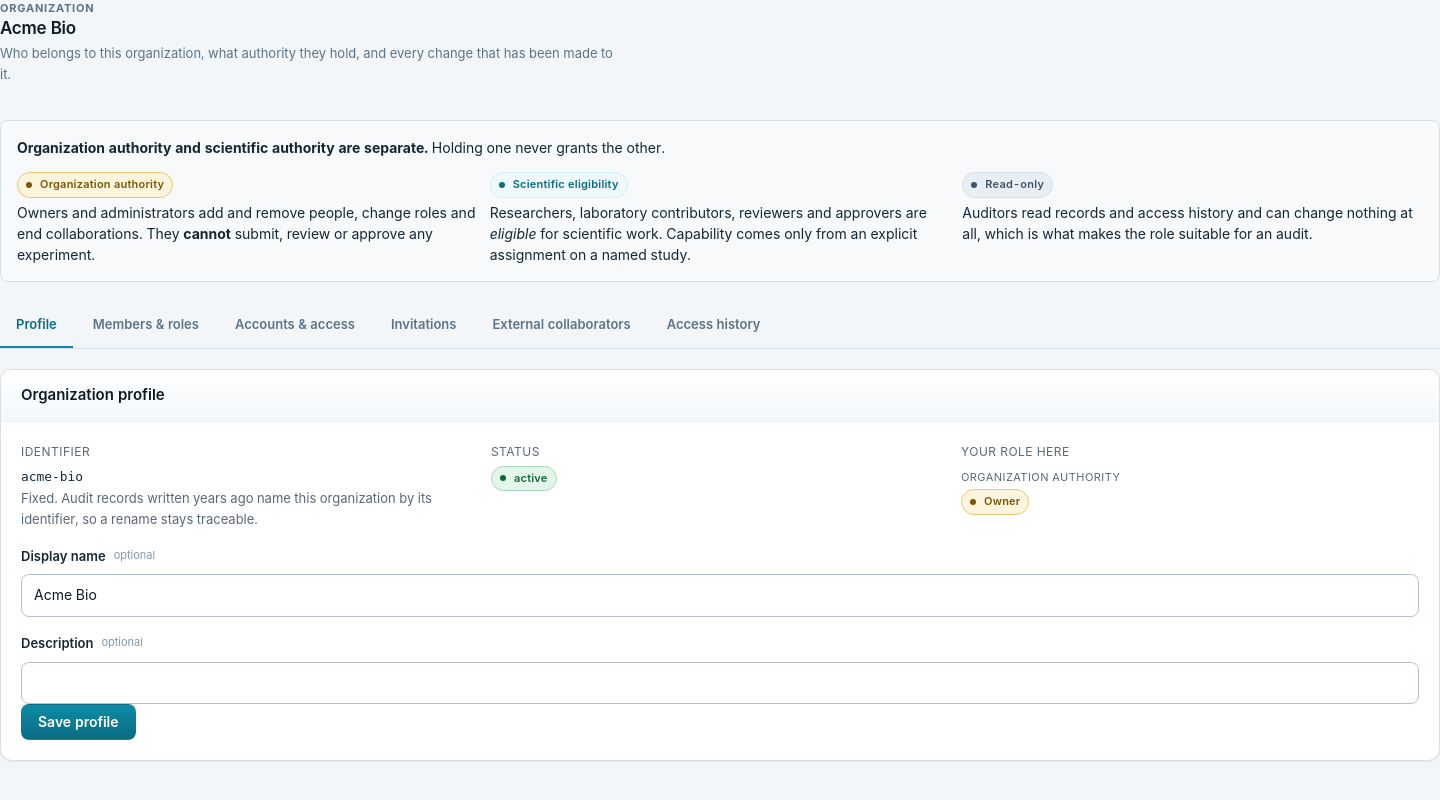
Scenario: organization authority versus scientific assignment › never presents administrator and approver in the same vocabulary
Click the tab "Members & roles" at (146, 325), box [77,302,215,348]
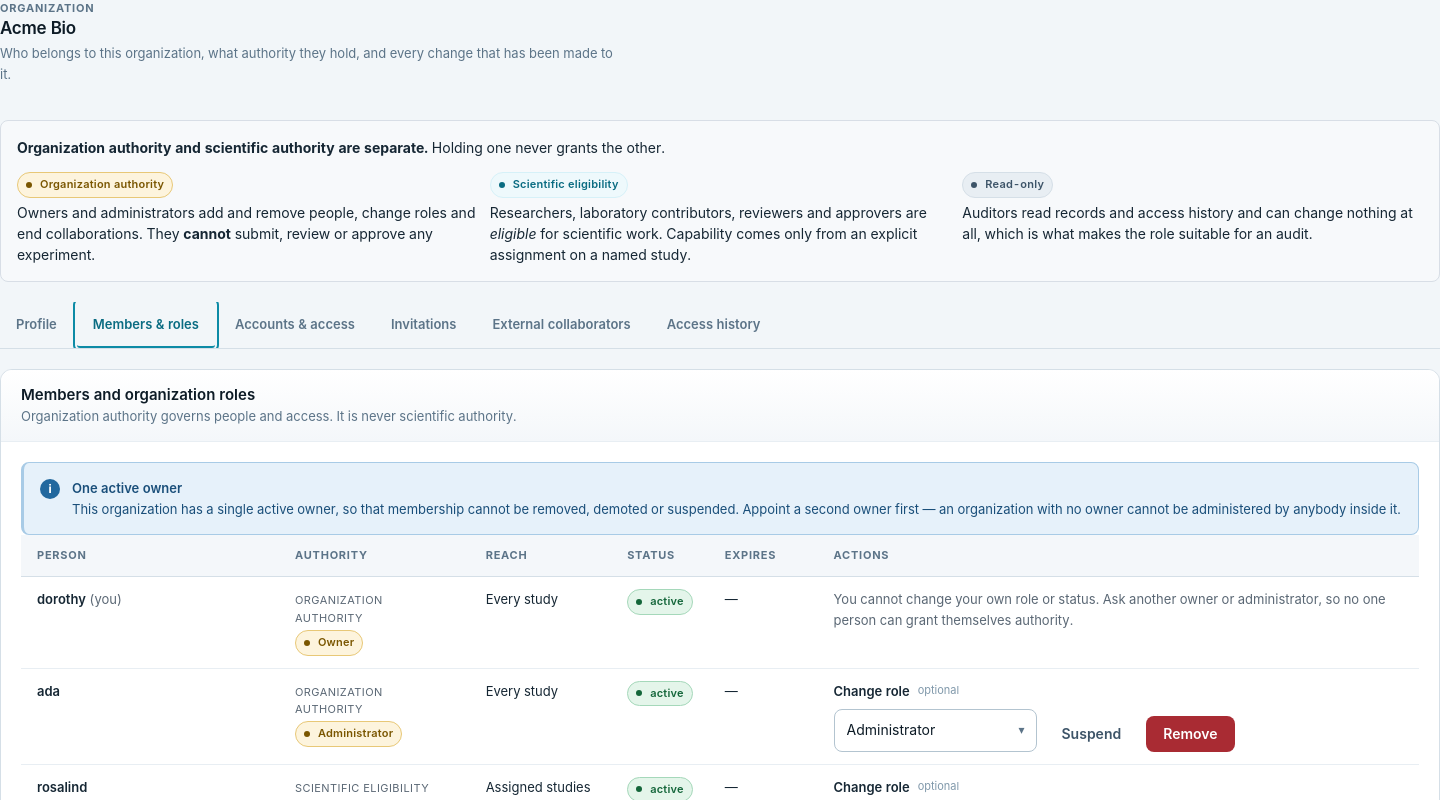
Expected: the element with test id "member-role-ada" does not show "Scientific"
Expected: the element with test id "member-role-ada" is shown, [295,684,402,747]
